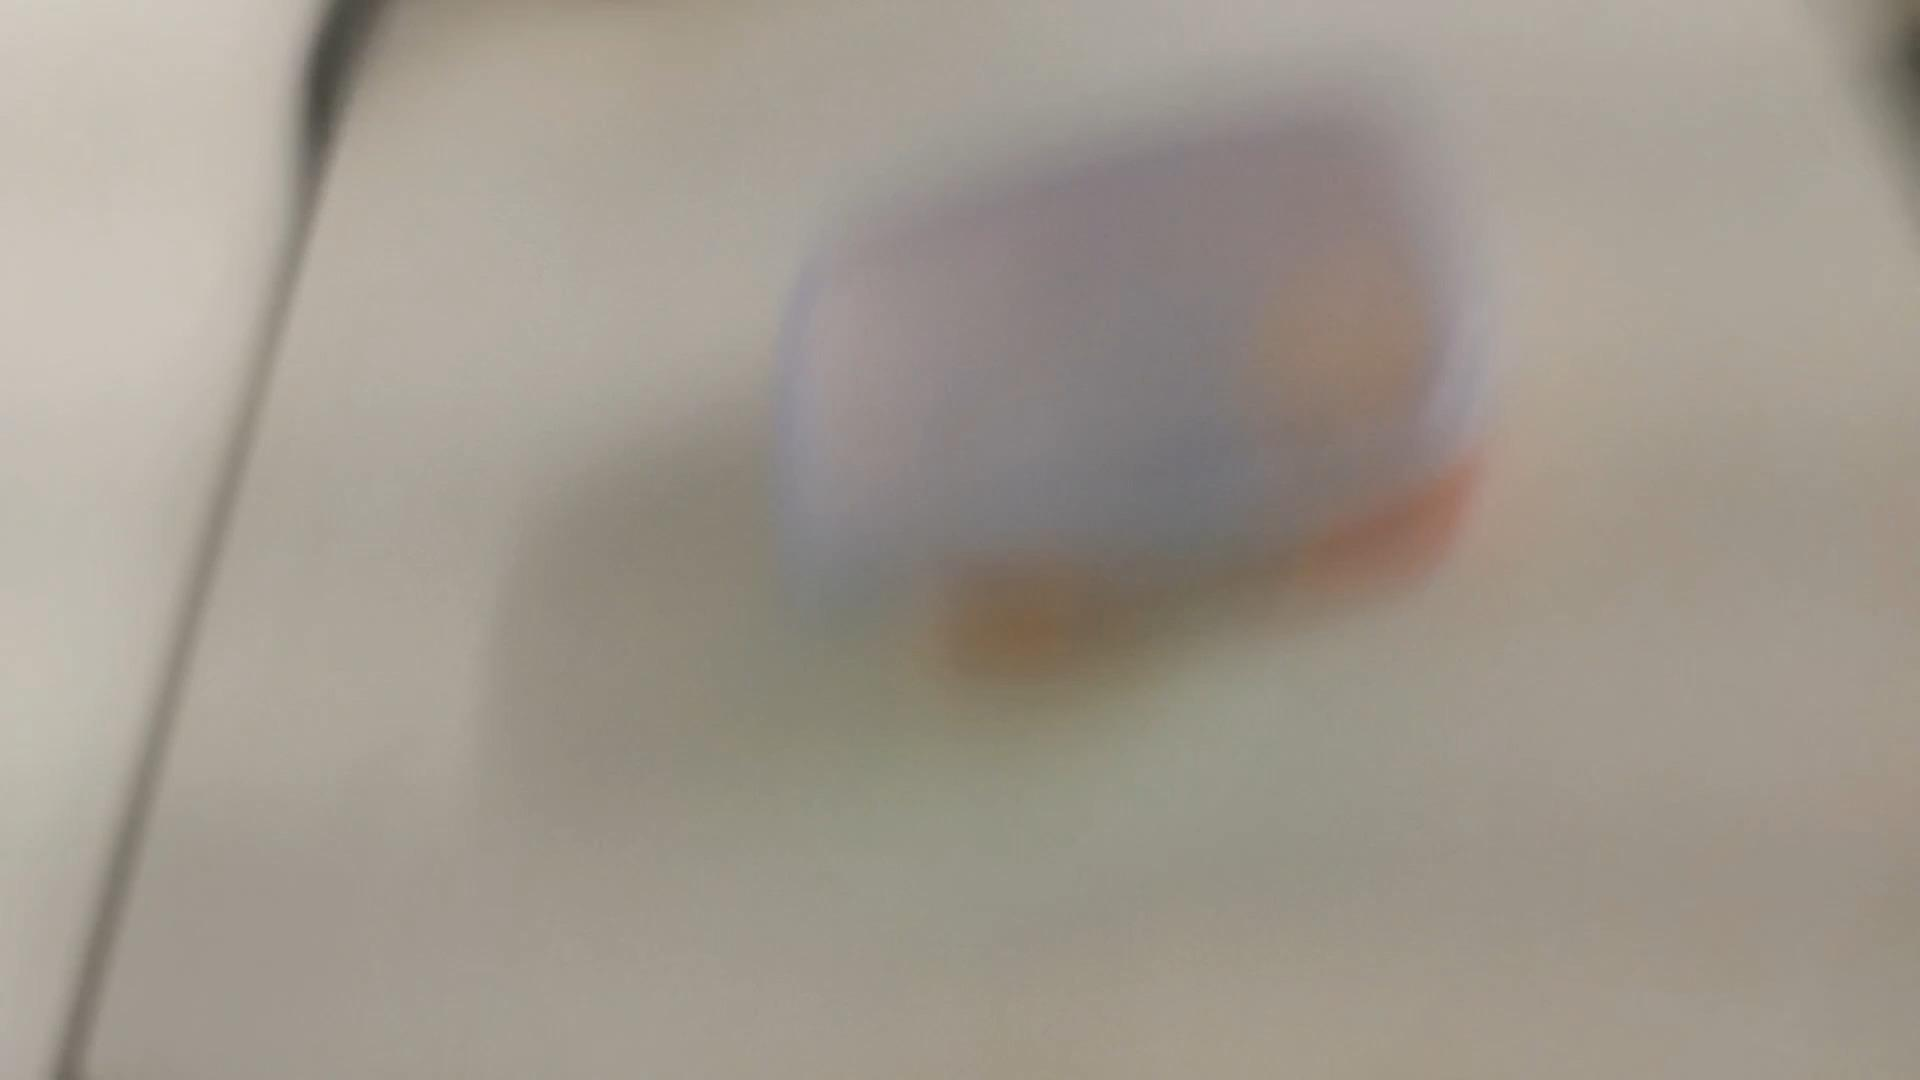butter: (758, 80, 1500, 678)
